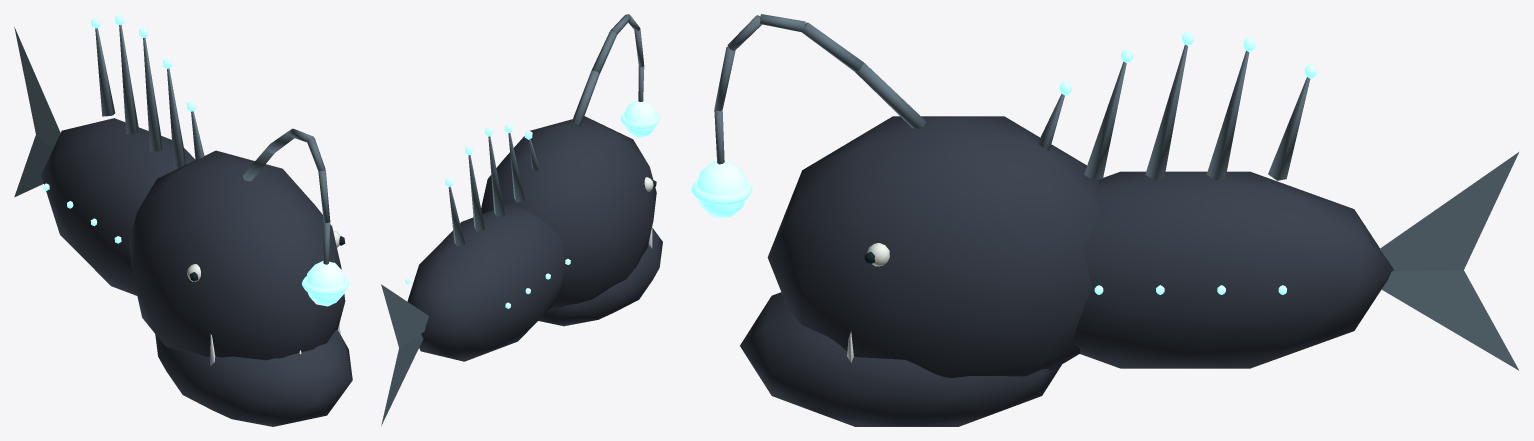
The model's file is fish_abyss.glb.
3 renders of one model, left to right at view 1: azimuth 30°, elevation 25°; view 2: azimuth 150°, elevation 25°; view 3: azimuth 270°, elevation 25°, orthographic. The views are drawn at different scales.
Visible parts, largest first — view 1: fish_abyss; view 2: fish_abyss; view 3: fish_abyss.
Boxes of the visible parts, left/top/right/bottom form: fish_abyss: left=14, top=14, right=352, bottom=426; fish_abyss: left=381, top=14, right=662, bottom=425; fish_abyss: left=691, top=14, right=1518, bottom=426.
Size of the model in its own units: 0.875 by 1.59 by 2.97.
